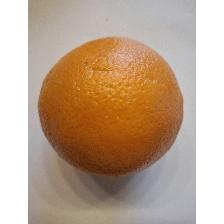Orange: (36, 31, 188, 181)
